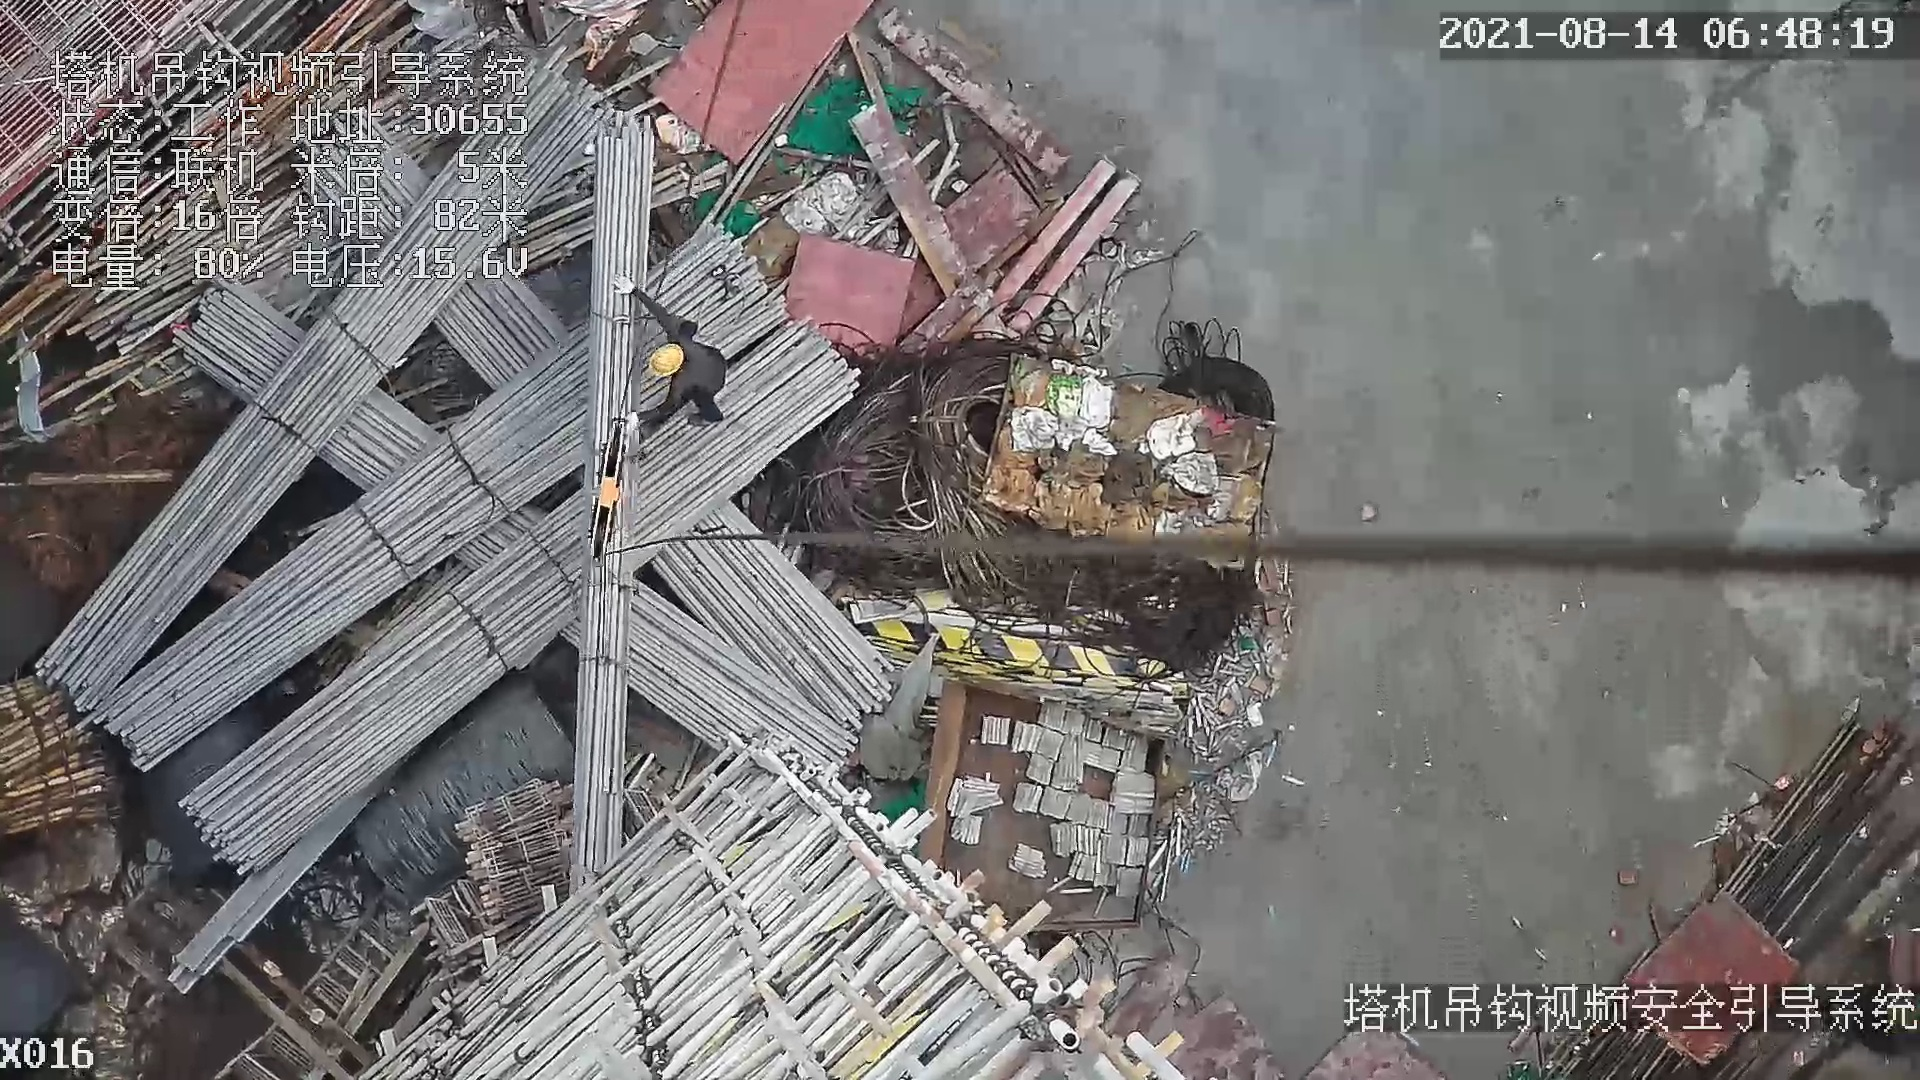board: (648, 4, 871, 168)
helmet: (652, 343, 682, 374)
hook: (588, 412, 631, 569)
person: (614, 272, 728, 440)
scaffold: (1, 682, 129, 839)
